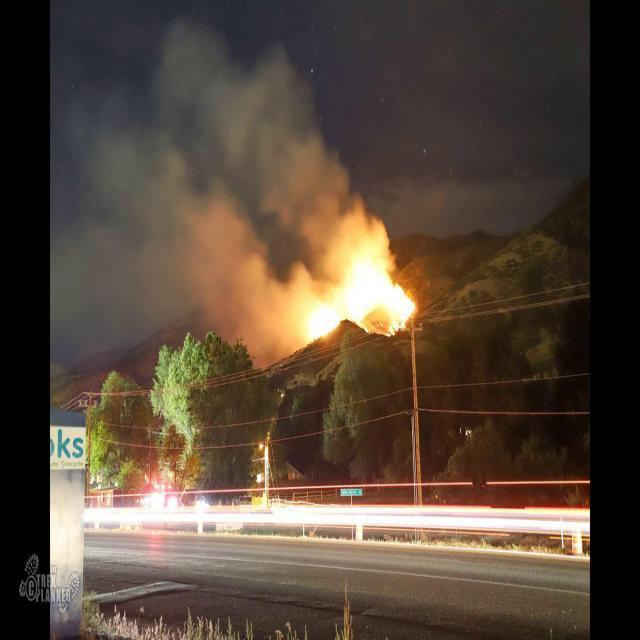Fire: (300, 242, 416, 346)
Smoke: (127, 75, 354, 229), (183, 235, 290, 335)
